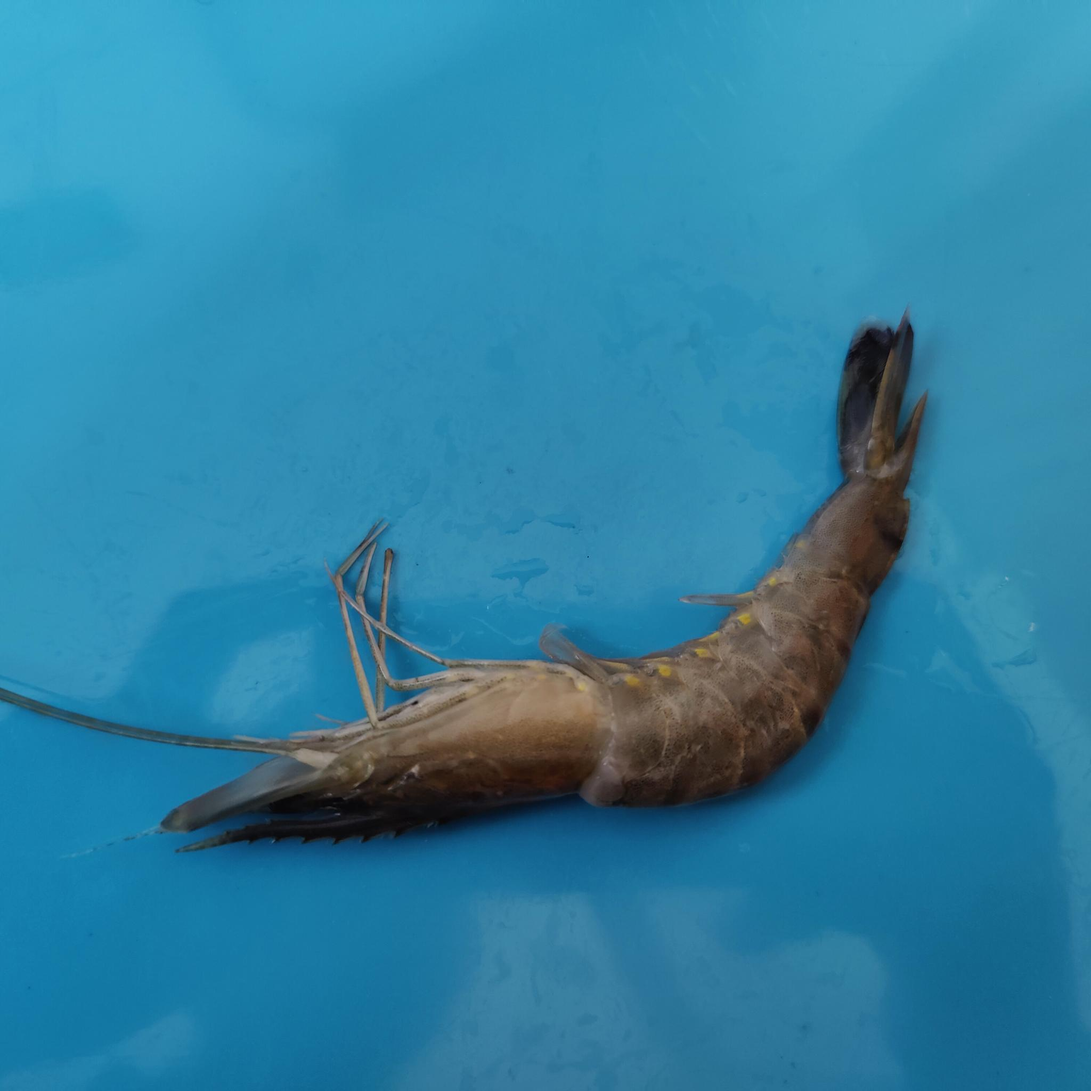whitespot: (517, 696, 595, 775), (604, 696, 675, 778)
